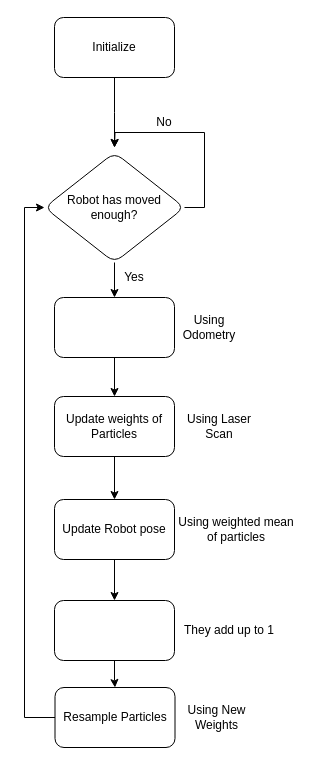
Image size: 312x765. Some labels were removed from this diagram. Here are the shapes that lost their labels. From the top down, the box of each, then its label:
(54, 296, 174, 358): Update Position of Particles
(54, 600, 174, 660): Normalize Weights
